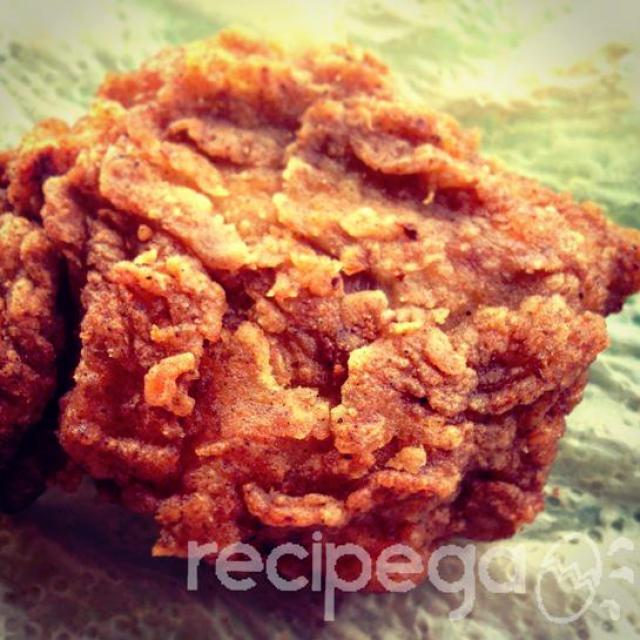fried_chicken: (9, 27, 632, 546)
